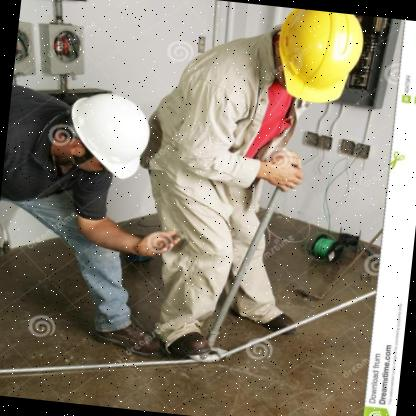bota: (86, 315, 162, 362)
